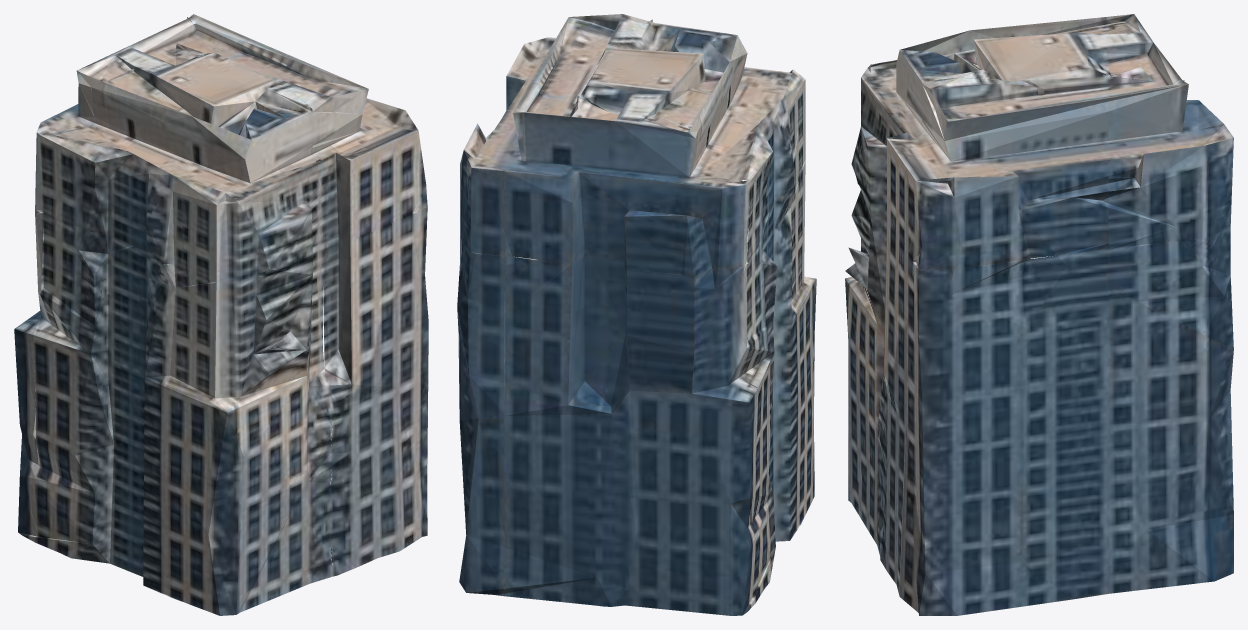
File: chunk_7_4.glb
The picture shows the model from 3 angles, left to right: view 1: azimuth 30°, elevation 25°; view 2: azimuth 150°, elevation 25°; view 3: azimuth 270°, elevation 25°; orthographic projection. The views are drawn at different scales.
Parts seen in each view (by area): view 1: hero-chunk; view 2: hero-chunk; view 3: hero-chunk.
Boxes of the visible parts, box(x1,y1,x2,y2) form: hero-chunk: box(14, 14, 428, 615); hero-chunk: box(457, 14, 816, 615); hero-chunk: box(845, 14, 1233, 615).
Size of the model in its own units: 36.33 by 50.72 by 37.24.
Materials: 1 (1 with a texture image).
